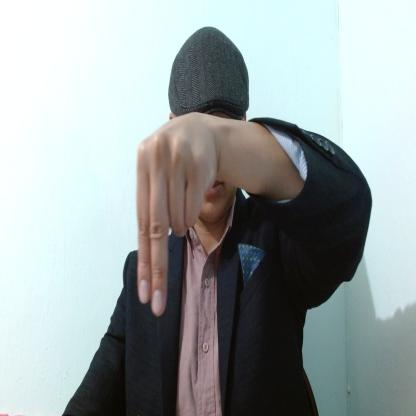N: (137, 113, 218, 314)
